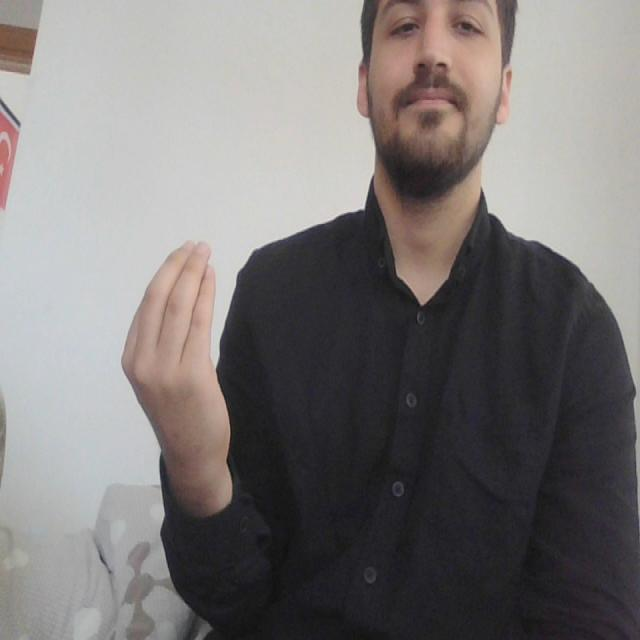iyi: (116, 232, 224, 388)
